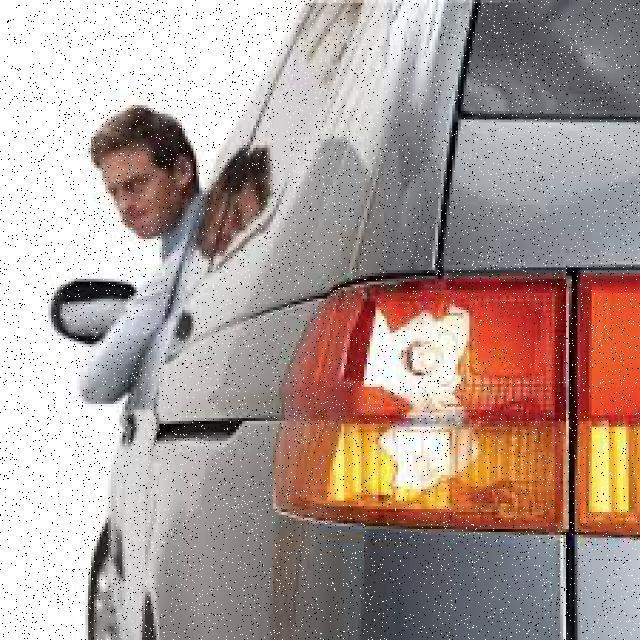Signlight-Damage: (258, 382, 584, 524)
Taillight-Damage: (321, 270, 569, 521)
